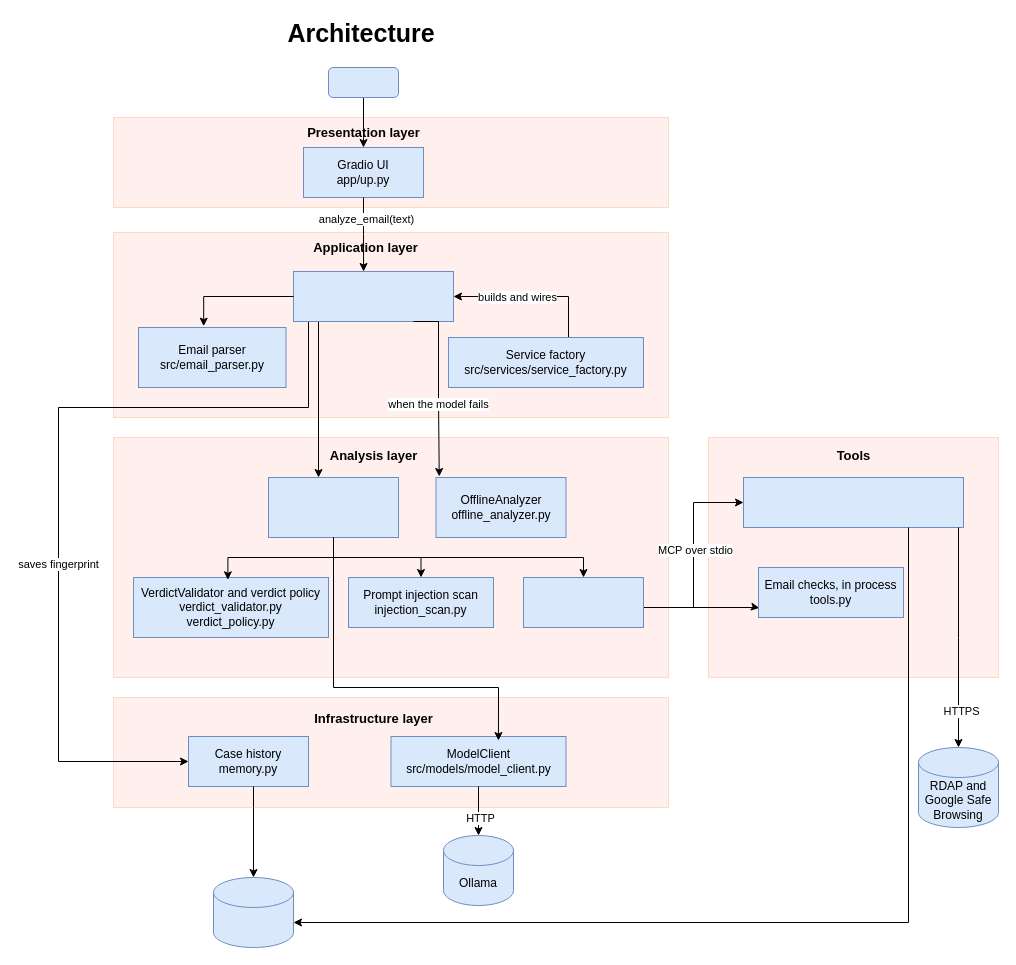
The diagram is 1016 pixels wide and 965 high, and some of its shapes have lost their labels. The box of each missing label's shape, as (x1, y1, x2, y2) in pixels:
AgentAnalyzer agent.py: (268, 476, 398, 538)
AnalysisService src/services/ai_service.py: (292, 270, 454, 322)
MCP server with domain checks src/mcp_servers/domain_server.py: (742, 476, 964, 528)
PostgreSQL: (212, 876, 294, 948)
ToolRegistry tool_registry: (522, 576, 644, 628)
User: (328, 66, 398, 98)
